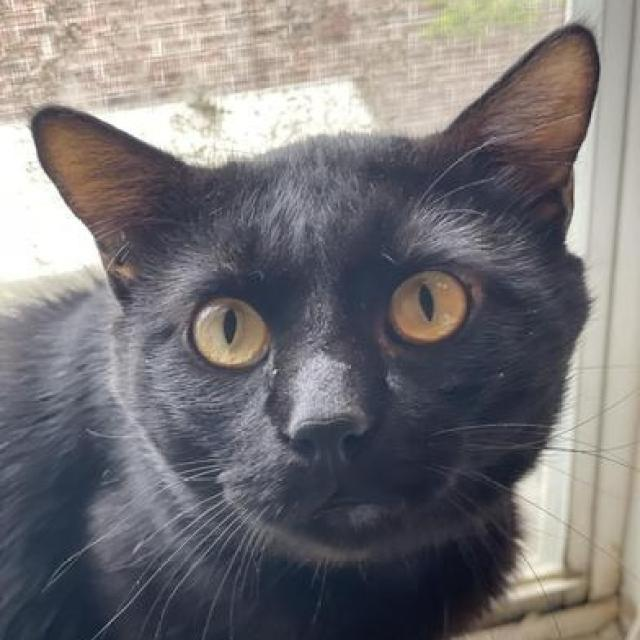bombay_cat: (28, 14, 640, 607)
